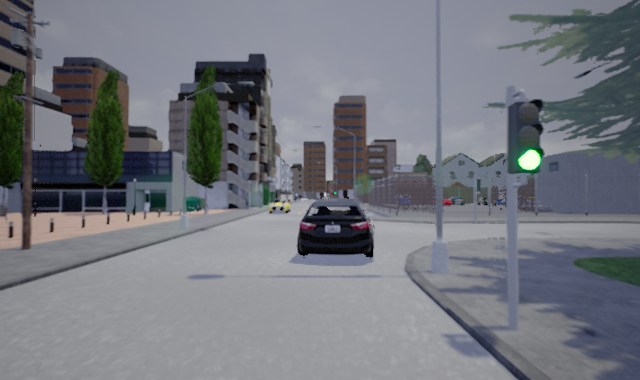vehicle: (296, 197, 377, 258), (269, 198, 292, 214)
